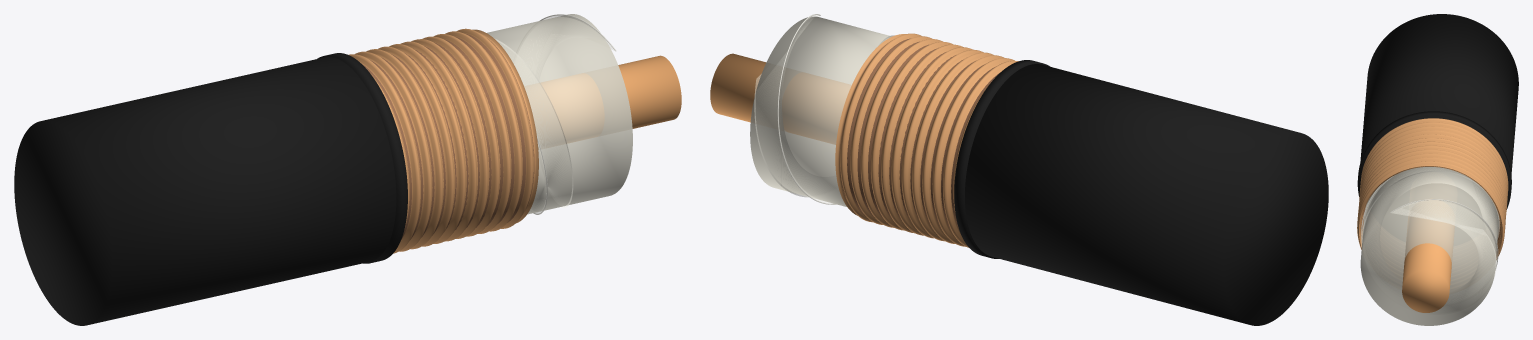
Rendered from rf-ldf15.glb.
3 renders of one model, left to right at view 1: azimuth 30°, elevation 25°; view 2: azimuth 150°, elevation 25°; view 3: azimuth 270°, elevation 25°, orthographic. The views are drawn at different scales.
Parts seen in each view (by area): view 1: black PE jacket body, corrugated copper shield, foam PE dielectric, solid center conductor continuous, dark groove shadow pass, surface PTFE tape wrap, jacket cut lip; view 2: black PE jacket body, corrugated copper shield, foam PE dielectric, solid center conductor continuous, dark groove shadow pass, jacket cut lip, surface PTFE tape wrap; view 3: foam PE dielectric, black PE jacket body, corrugated copper shield, surface PTFE tape wrap, solid center conductor continuous, jacket cut lip, subtle PTFE tape lap line.
Part boxes in pixels (x1=…): black PE jacket body: x1=14, y1=57, x2=396, y2=325; corrugated copper shield: x1=348, y1=28, x2=538, y2=253; foam PE dielectric: x1=487, y1=14, x2=632, y2=214; solid center conductor continuous: x1=525, y1=55, x2=681, y2=149; dark groove shadow pass: x1=362, y1=34, x2=534, y2=239; surface PTFE tape wrap: x1=495, y1=15, x2=614, y2=213; jacket cut lip: x1=317, y1=53, x2=407, y2=263; black PE jacket body: x1=965, y1=64, x2=1328, y2=325; corrugated copper shield: x1=835, y1=33, x2=1018, y2=247; foam PE dielectric: x1=750, y1=16, x2=891, y2=206; solid center conductor continuous: x1=710, y1=53, x2=851, y2=144; dark groove shadow pass: x1=839, y1=38, x2=999, y2=231; jacket cut lip: x1=954, y1=60, x2=1049, y2=258; surface PTFE tape wrap: x1=754, y1=15, x2=894, y2=203; foam PE dielectric: x1=1360, y1=167, x2=1498, y2=325; black PE jacket body: x1=1360, y1=14, x2=1518, y2=174; corrugated copper shield: x1=1357, y1=118, x2=1508, y2=259; surface PTFE tape wrap: x1=1361, y1=168, x2=1499, y2=306; solid center conductor continuous: x1=1402, y1=200, x2=1454, y2=312; jacket cut lip: x1=1357, y1=111, x2=1511, y2=209; subtle PTFE tape lap line: x1=1361, y1=182, x2=1498, y2=269.
Size of the model in its own units: 6.69 by 2.07 by 2.17.
